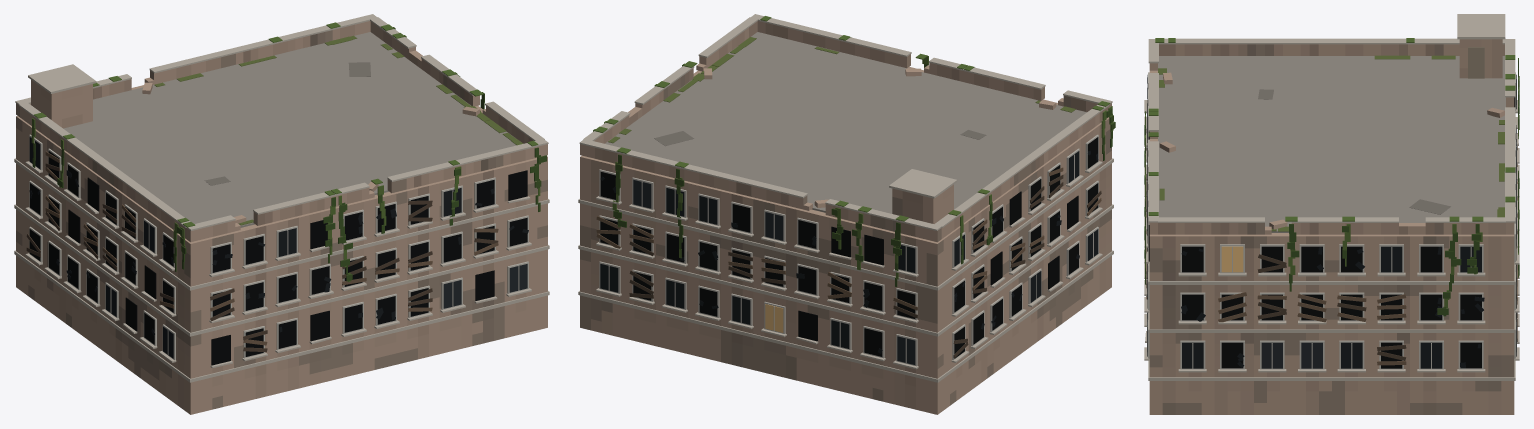
Rendered from building_base_3f.glb.
The picture shows the model from 3 angles, left to right: view 1: azimuth 30°, elevation 25°; view 2: azimuth 150°, elevation 25°; view 3: azimuth 270°, elevation 25°; orthographic projection. The views are drawn at different scales.
Parts seen in each view (by area): view 1: building_base_3f; view 2: building_base_3f; view 3: building_base_3f.
Boxes of the visible parts, x1=… form: building_base_3f: x1=14, y1=14, x2=549, y2=414; building_base_3f: x1=578, y1=14, x2=1115, y2=414; building_base_3f: x1=1144, y1=14, x2=1519, y2=414.
Bounding box in the file's own units: 26.64 × 14.82 × 22.64.
